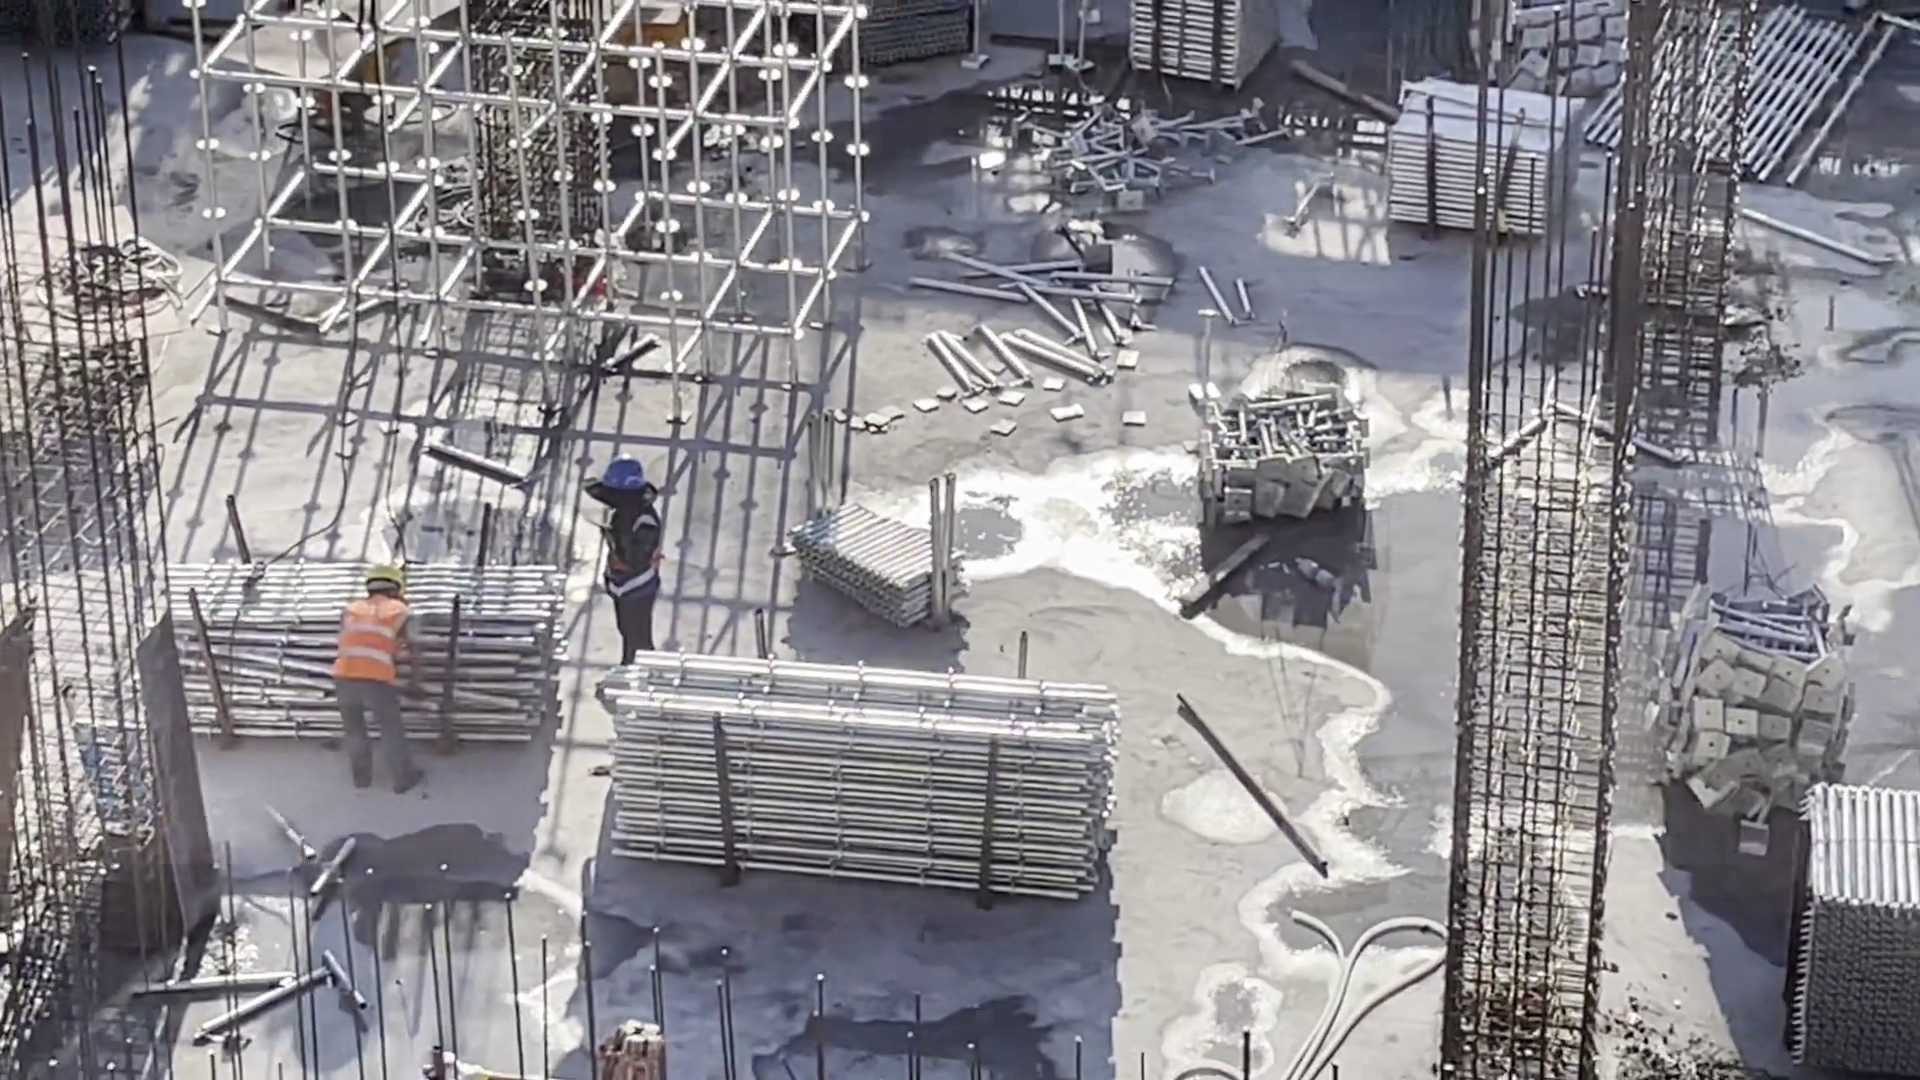cutter: (1, 204, 203, 362), (231, 1, 478, 97), (545, 1, 721, 63)
helmet: (359, 553, 421, 587), (597, 456, 647, 494)
person: (578, 450, 674, 698), (330, 564, 432, 790)
scaffold: (602, 652, 1105, 892), (157, 564, 564, 756), (1673, 581, 1848, 798), (1796, 783, 1916, 1080), (791, 481, 983, 641), (1395, 89, 1586, 238), (1190, 383, 1372, 527), (1061, 102, 1225, 203), (1481, 1, 1624, 103), (1138, 1, 1292, 87)
vest: (337, 593, 398, 687), (605, 502, 660, 603)
